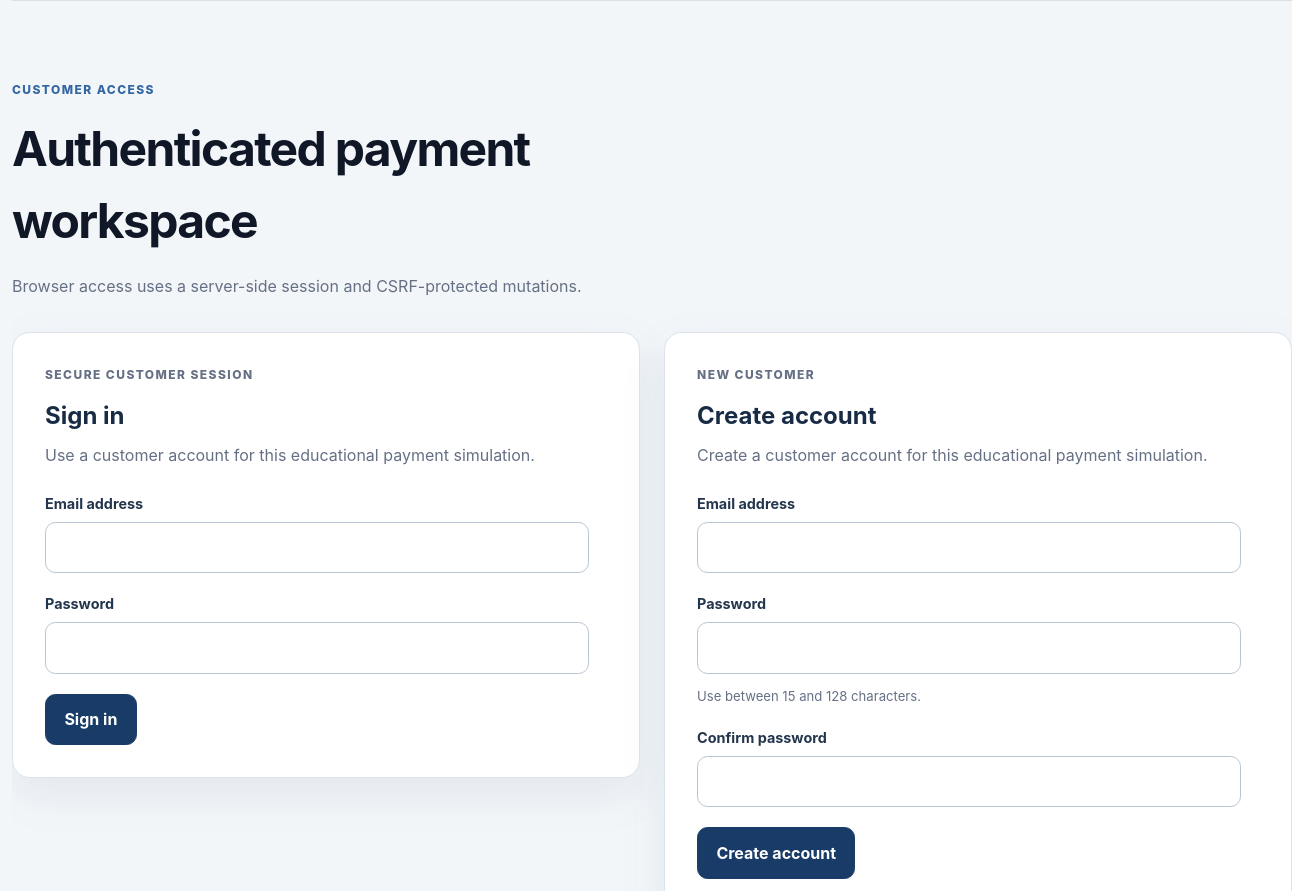
SessionBoundary › creates a customer account from the unauthenticated workspace
This screenshot has width=1292, height=891.
Check: the heading "Create account" is shown, box x1=697 y1=401 x2=876 y2=430
In the field labelled "Email address" below "New customer": (969, 547) x1=697 y1=522 x2=1241 y2=573, type "new.customer@example.com"
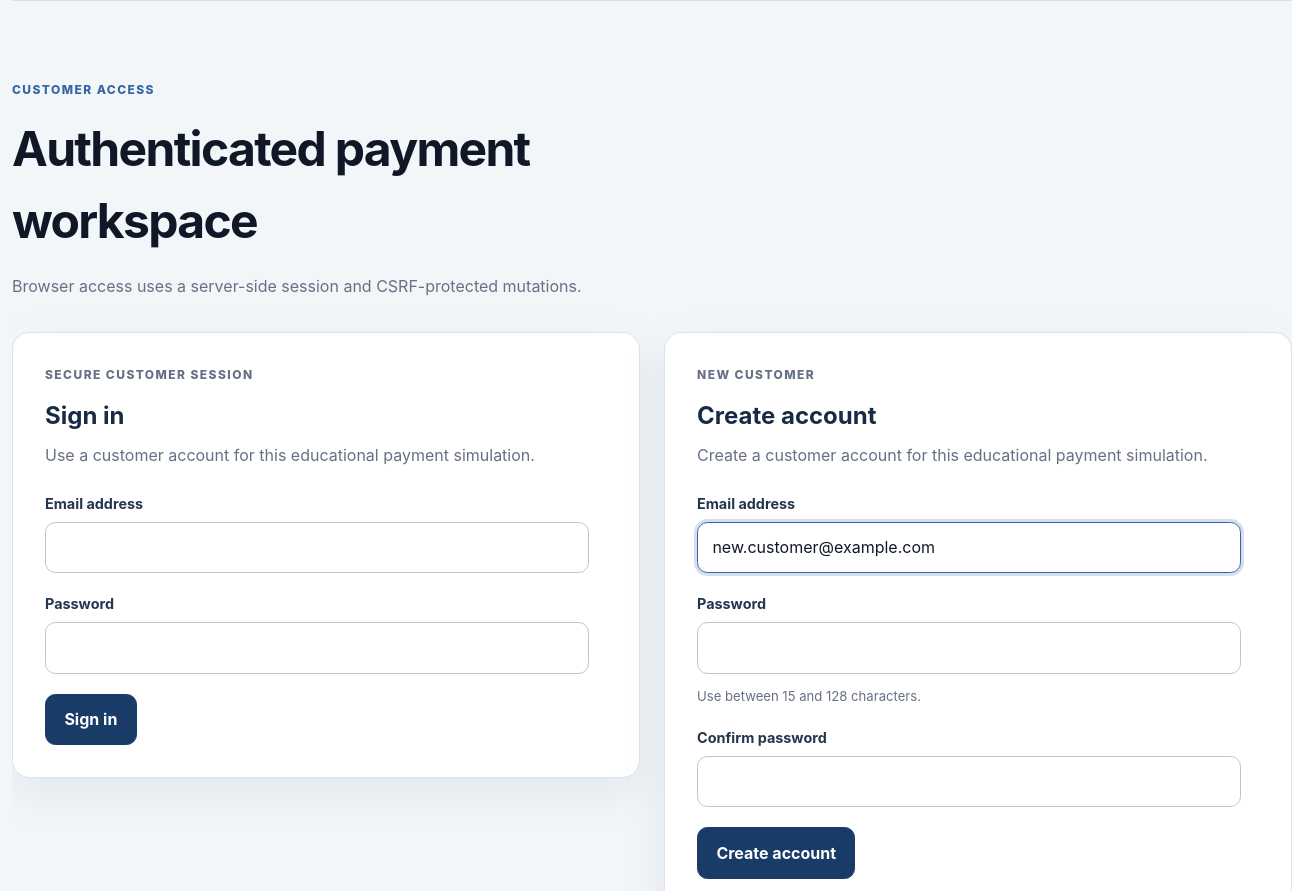
In the password field labelled "Password" below "New customer": (969, 648) x1=697 y1=622 x2=1241 y2=674, type "LongSecureDemoPassword2026!"
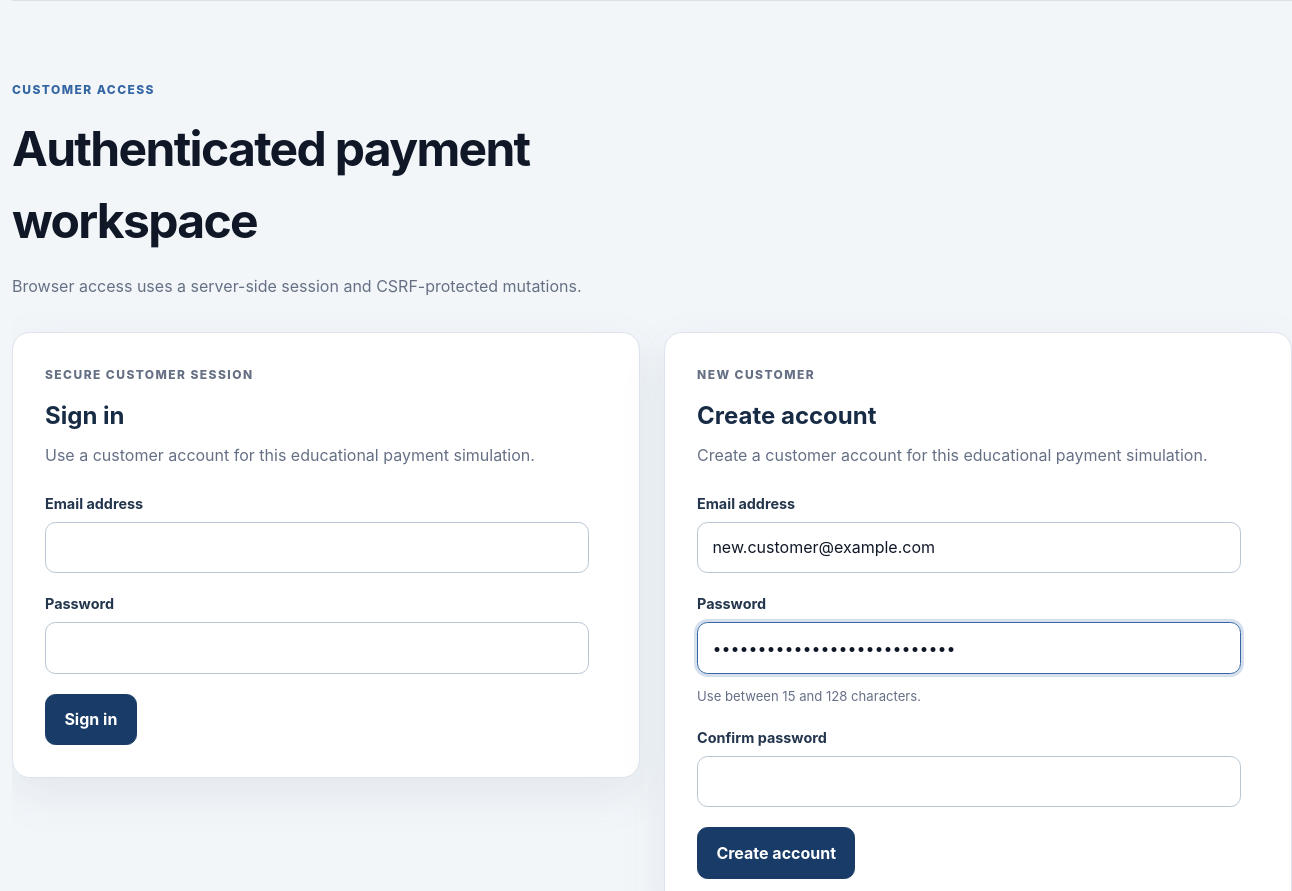
In the password field labelled "Confirm password": (969, 781) x1=697 y1=756 x2=1241 y2=807, type "LongSecureDemoPassword2026!"
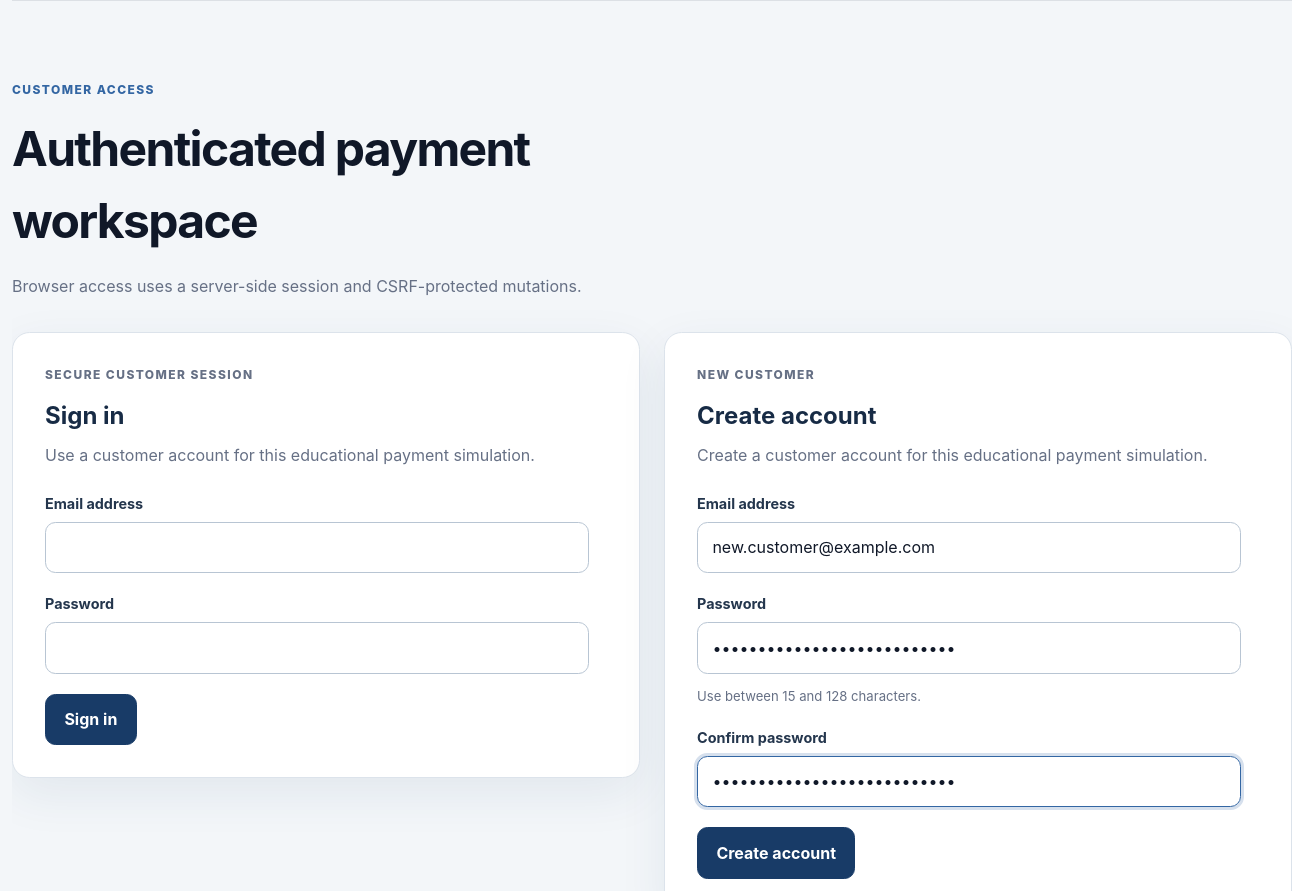
Click the button "Create account": (776, 853) x1=697 y1=827 x2=856 y2=879
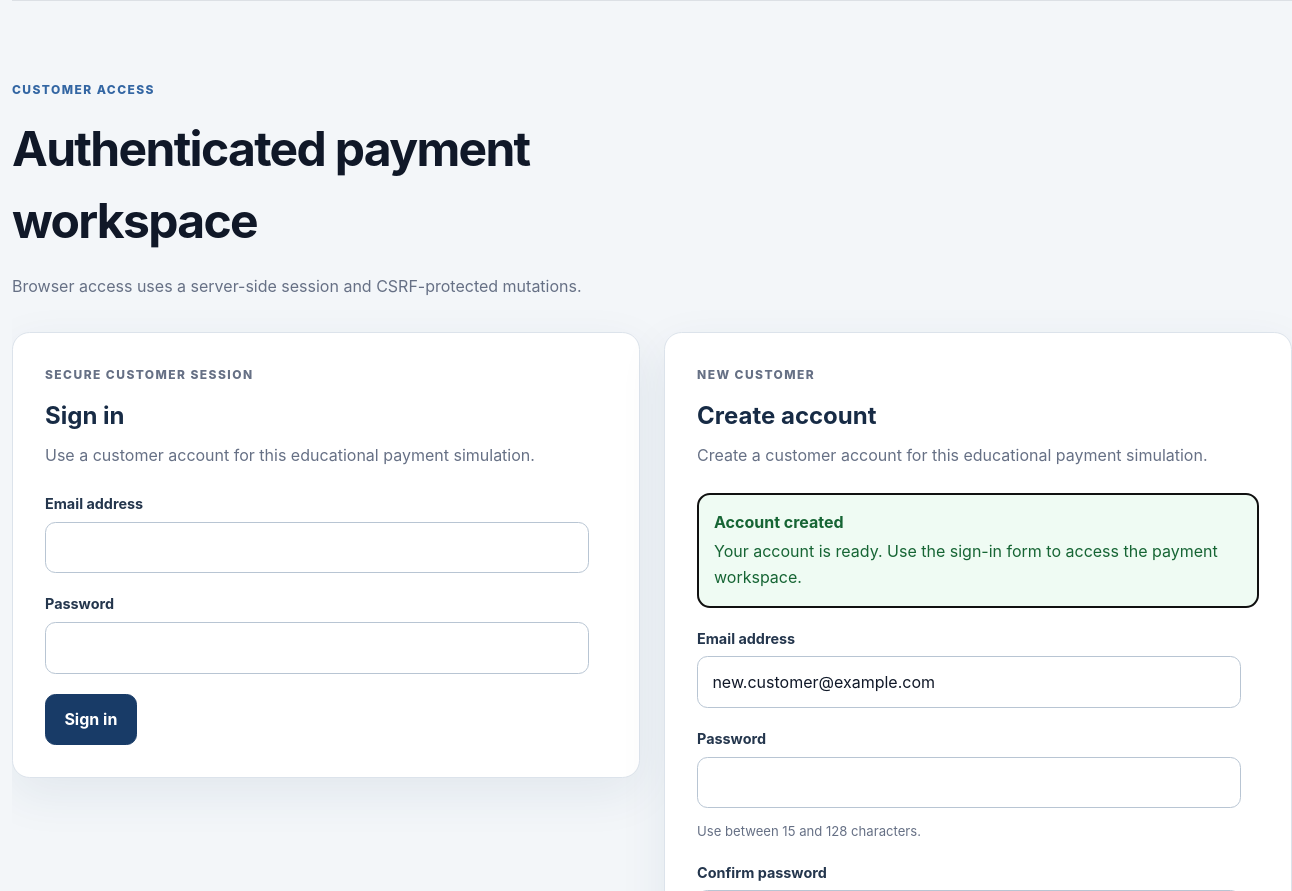
Check: the text "Account created" is shown, box x1=714 y1=512 x2=844 y2=532
